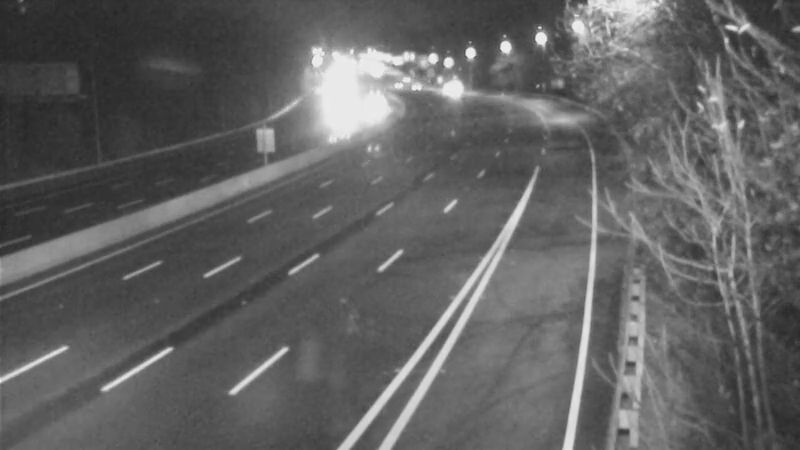vehicle: (423, 62, 473, 112)
